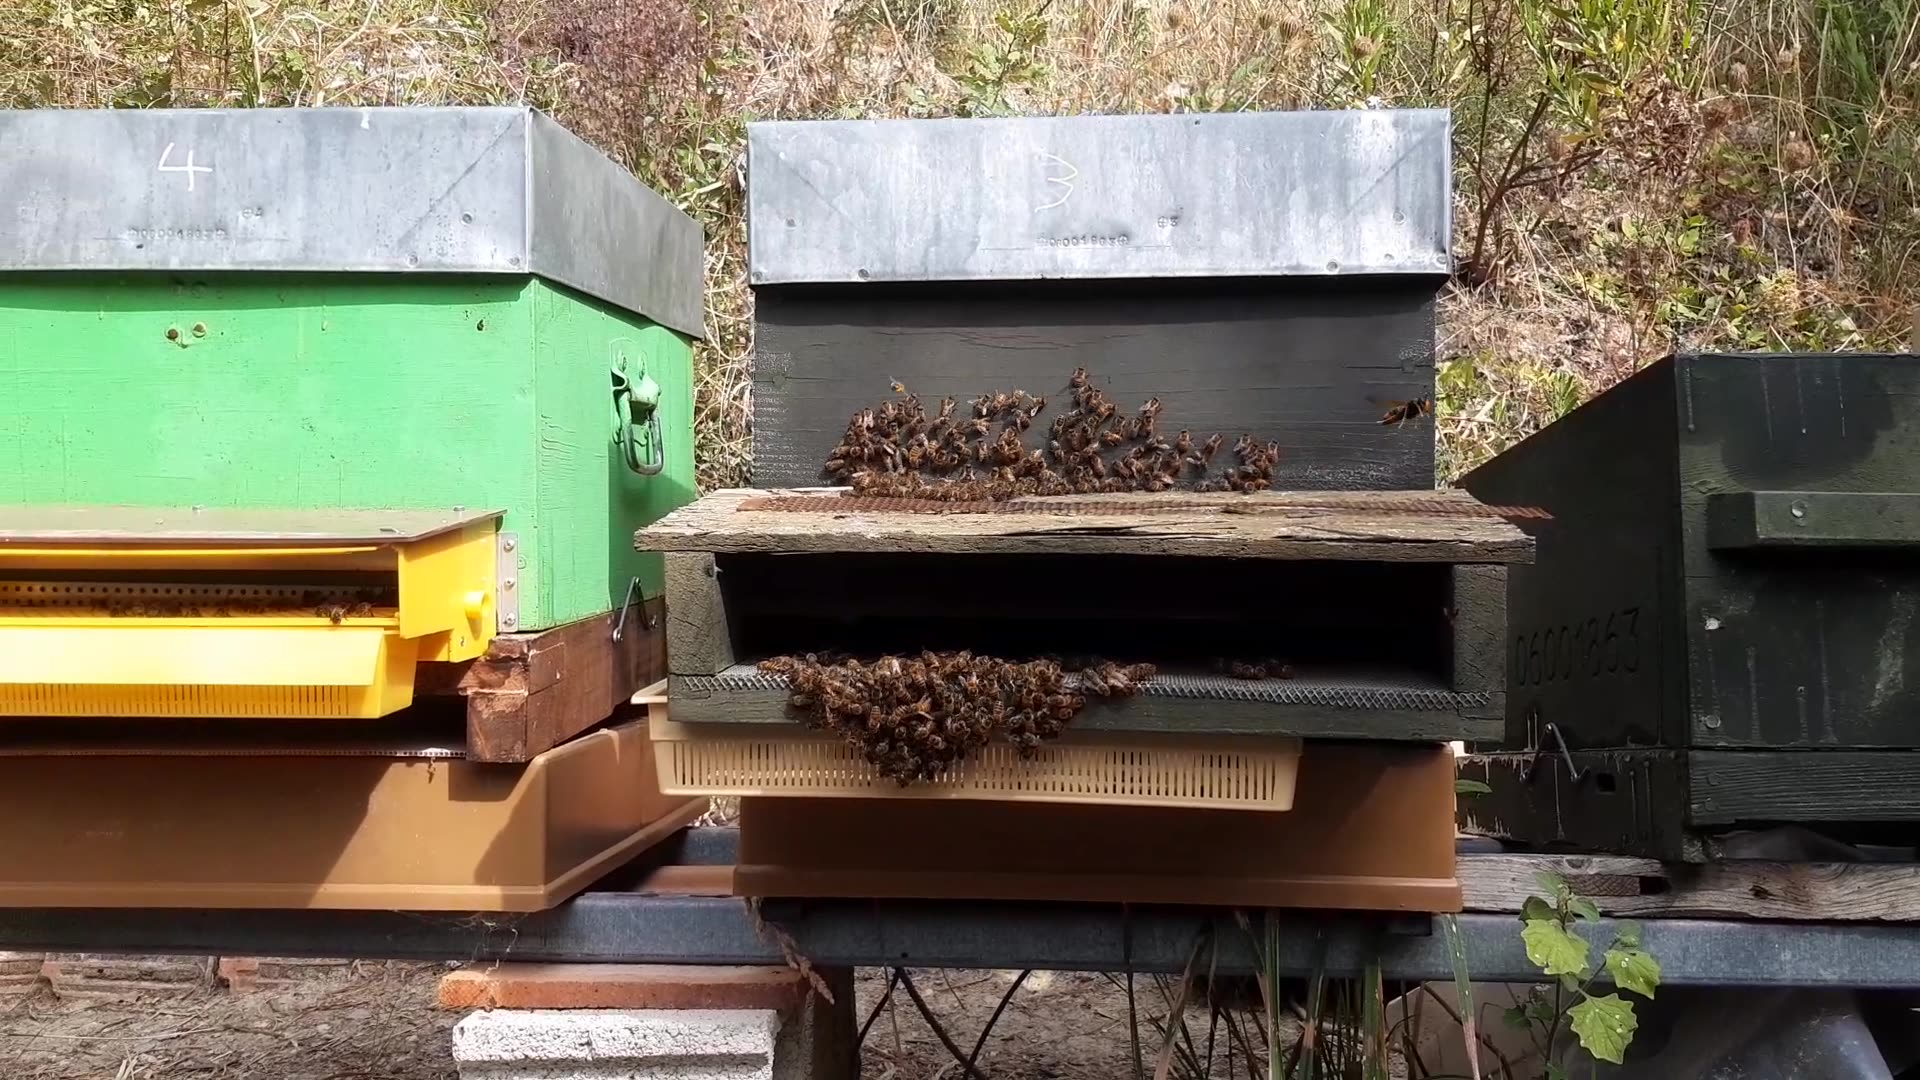bee: (818, 669, 897, 769), (1006, 680, 1101, 762), (920, 670, 992, 769), (866, 711, 932, 791), (778, 667, 847, 731), (1060, 386, 1127, 442), (1200, 443, 1271, 493), (928, 400, 1013, 442), (1150, 448, 1218, 500), (1366, 385, 1428, 438), (1112, 415, 1174, 467), (833, 409, 903, 451), (819, 447, 880, 495), (963, 458, 1033, 498)
